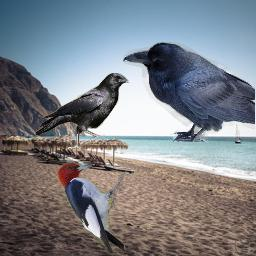Crow: (123, 42, 255, 142), (35, 72, 132, 151)
Woodpecker: (55, 159, 129, 256)
